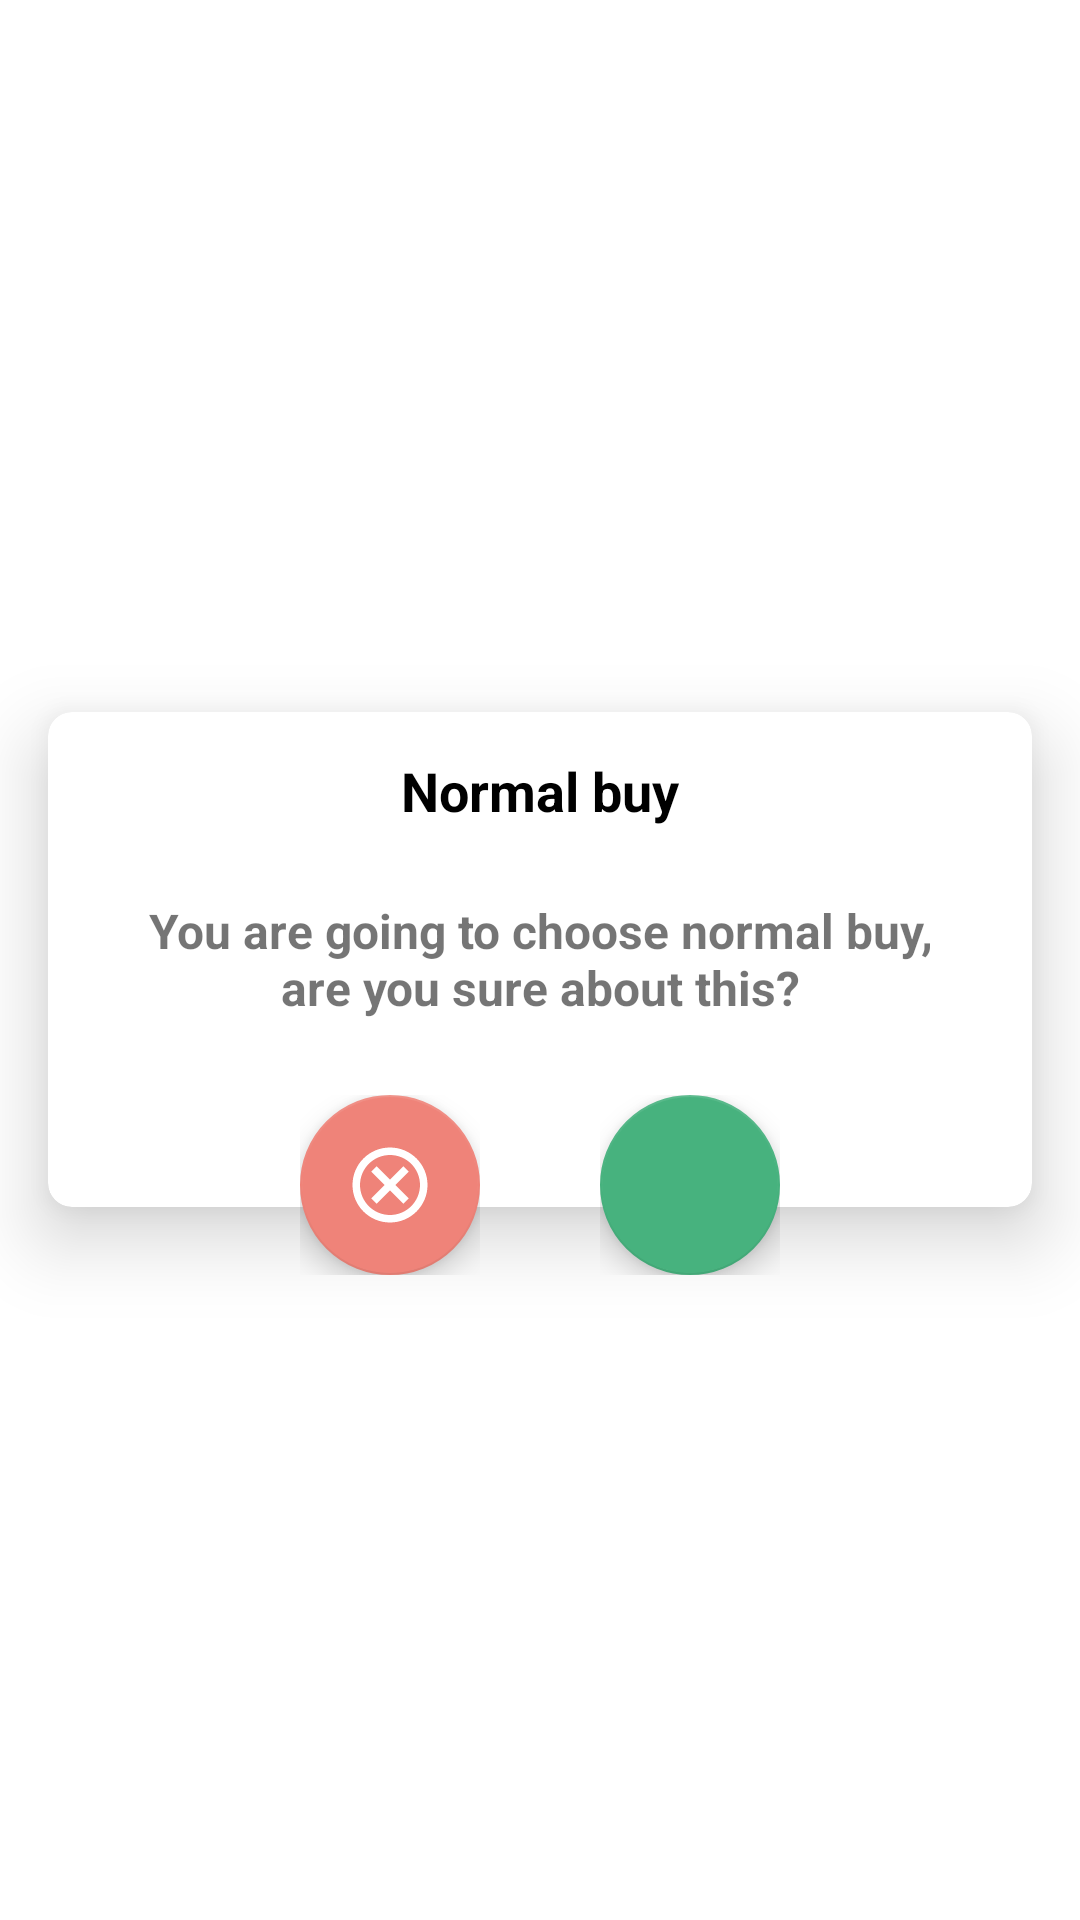

Screen size 1080 × 1920. Icon name, then its box in pixels as region(x1, y1, x2, y2):
cancel buy: region(352, 1147, 428, 1223)
